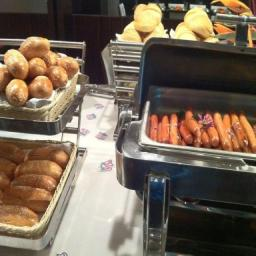hotdog: (185, 106, 199, 131), (200, 117, 210, 149), (248, 112, 255, 152), (234, 129, 246, 150), (180, 116, 188, 146), (171, 112, 178, 145), (150, 112, 157, 144), (221, 130, 231, 152), (162, 116, 170, 142), (214, 110, 223, 128), (230, 107, 238, 126), (212, 125, 218, 147), (193, 133, 201, 147), (224, 113, 230, 130), (240, 110, 246, 126), (159, 120, 161, 142), (204, 110, 210, 117), (180, 138, 185, 146)
